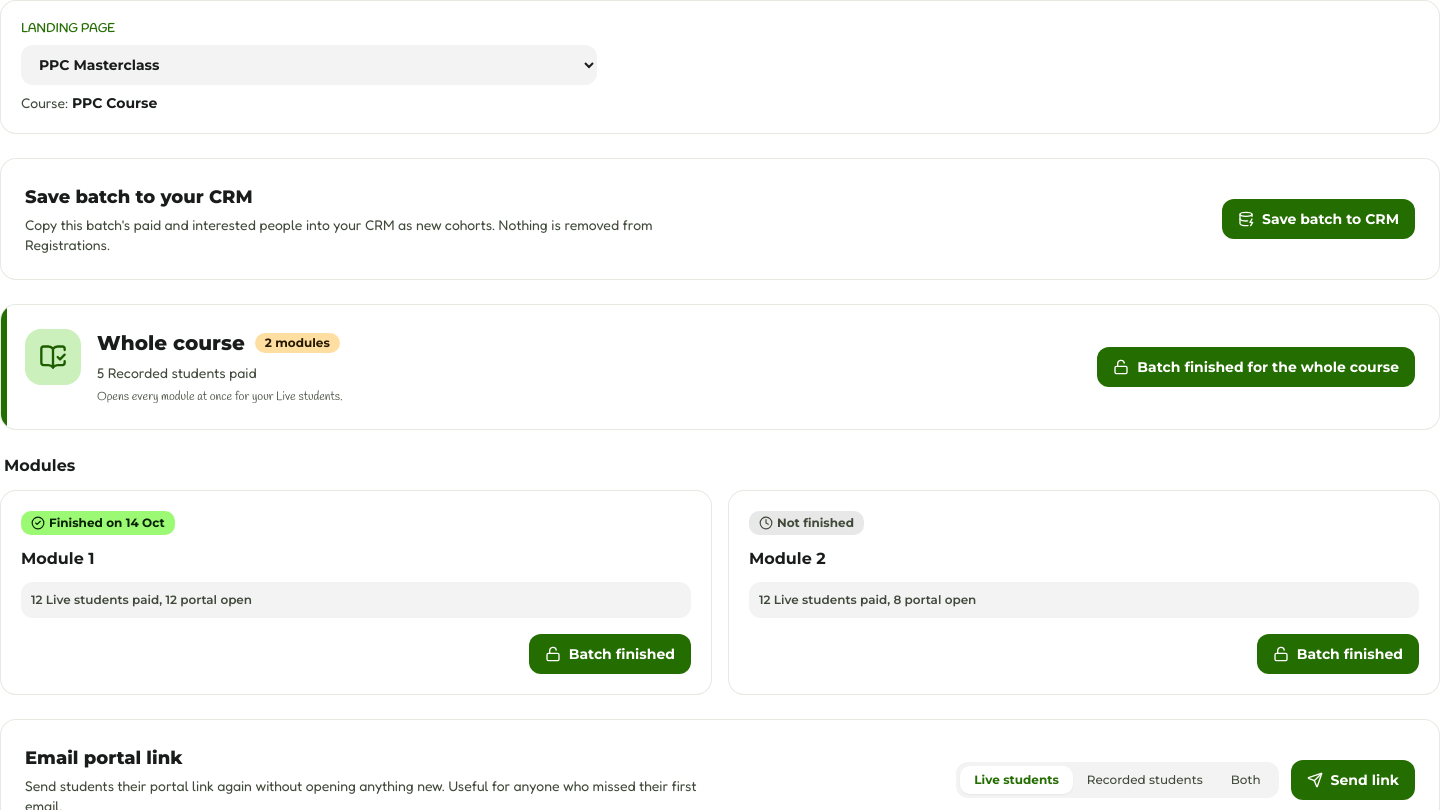
Test: BatchAccessPanel › clears earlier result strips when a new press starts
This screenshot has width=1440, height=810.
Expected: the heading "Module 2" is shown, [749,549,826,568]
Click the button "Send link".
click(1353, 780)  # box [1291,760,1415,800]
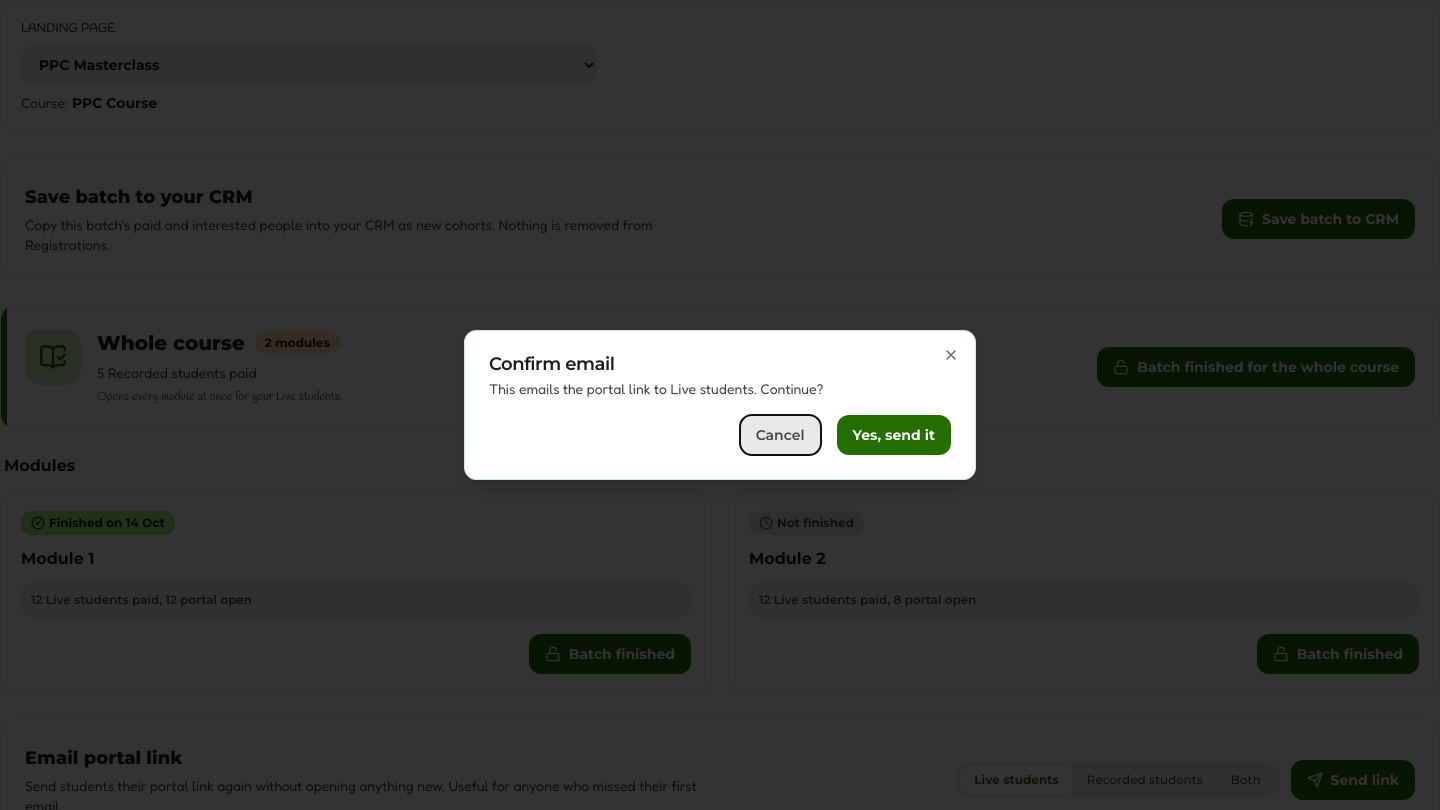
Click the button "Yes, send it".
click(894, 435)  # box [836,415,951,455]
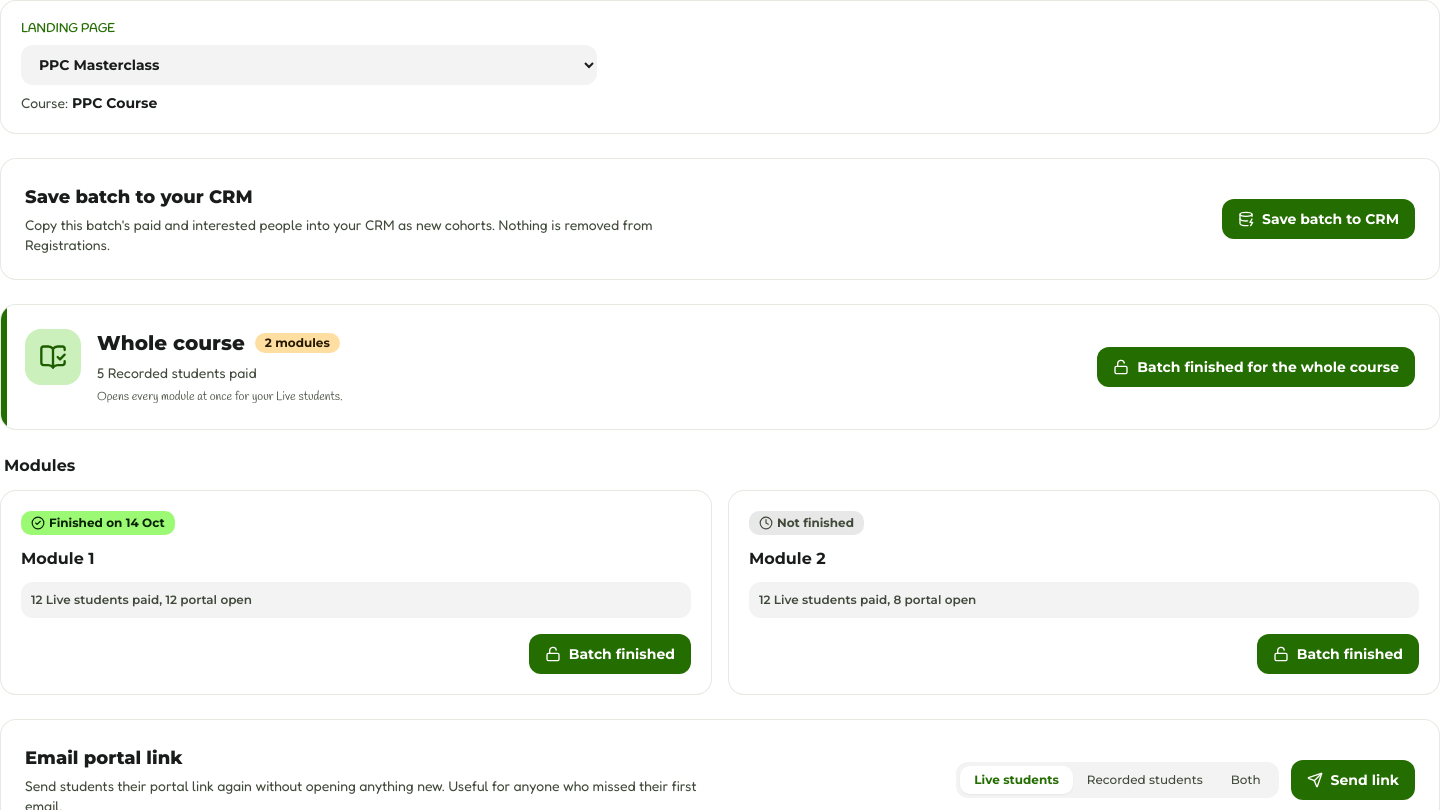
Click the 2nd button "Batch finished".
click(1338, 654)  # box [1257,634,1419,674]
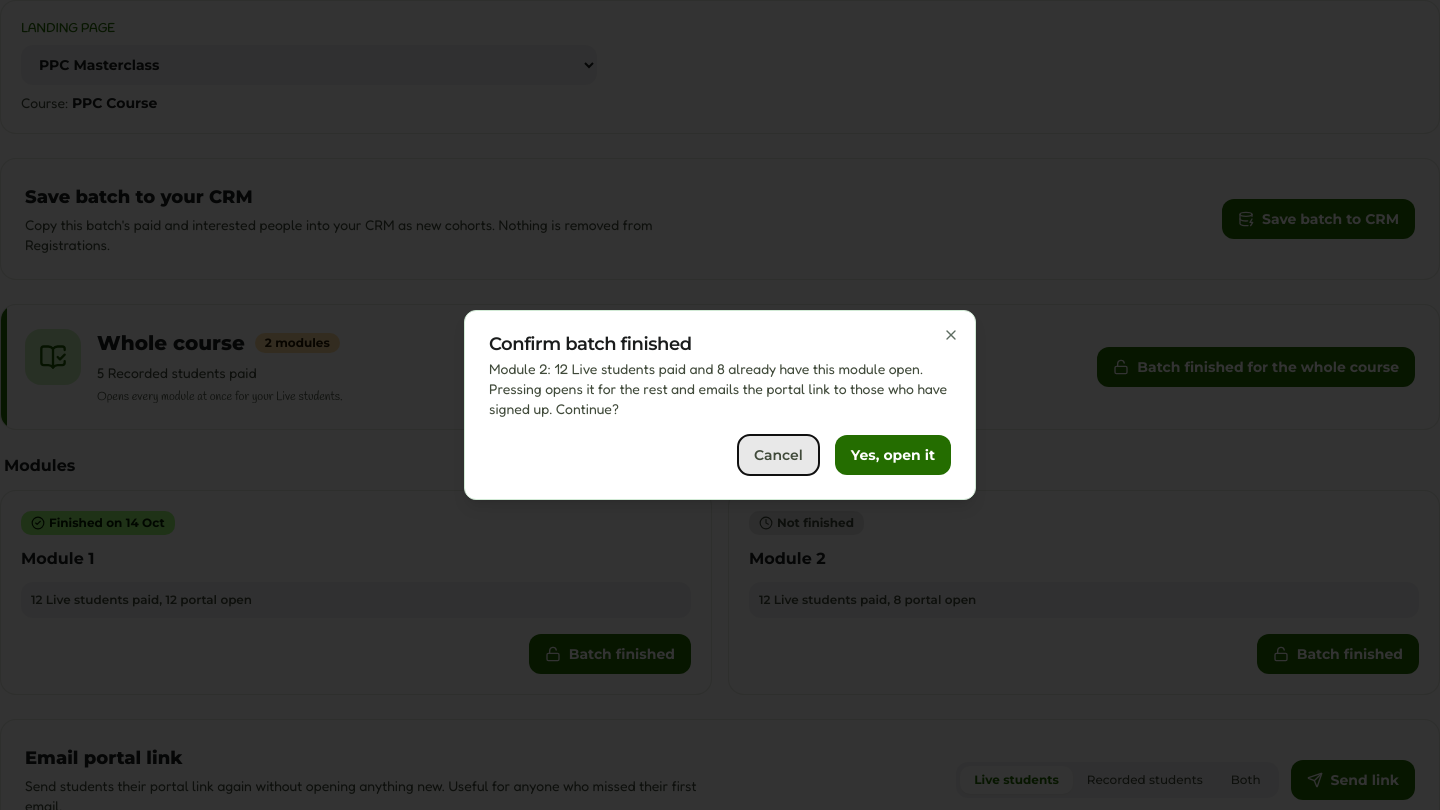
Click the button "Yes, open it".
click(893, 455)  # box [835,435,951,475]
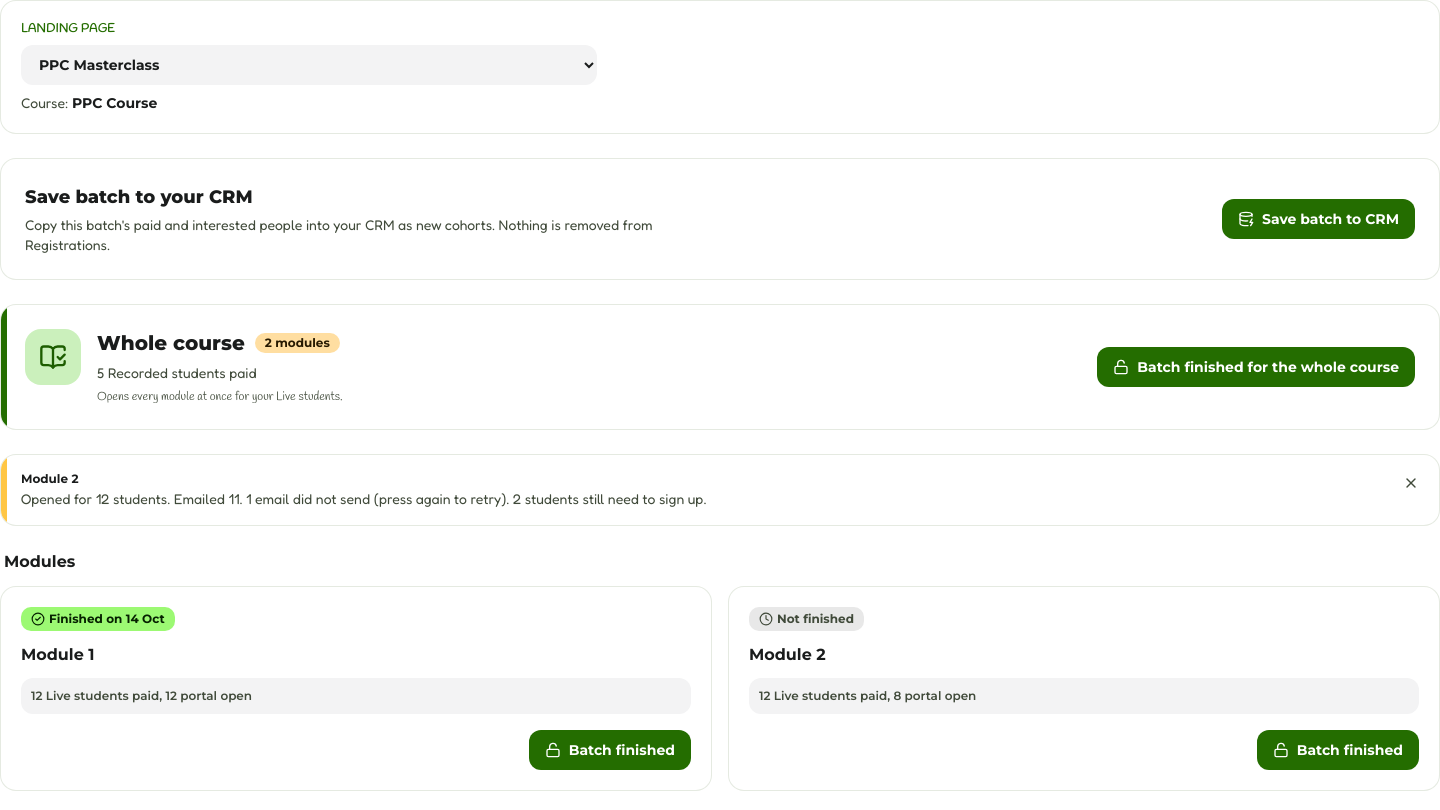
Expected: the text "Opened for 12 students" is shown, [21,490,706,507]
